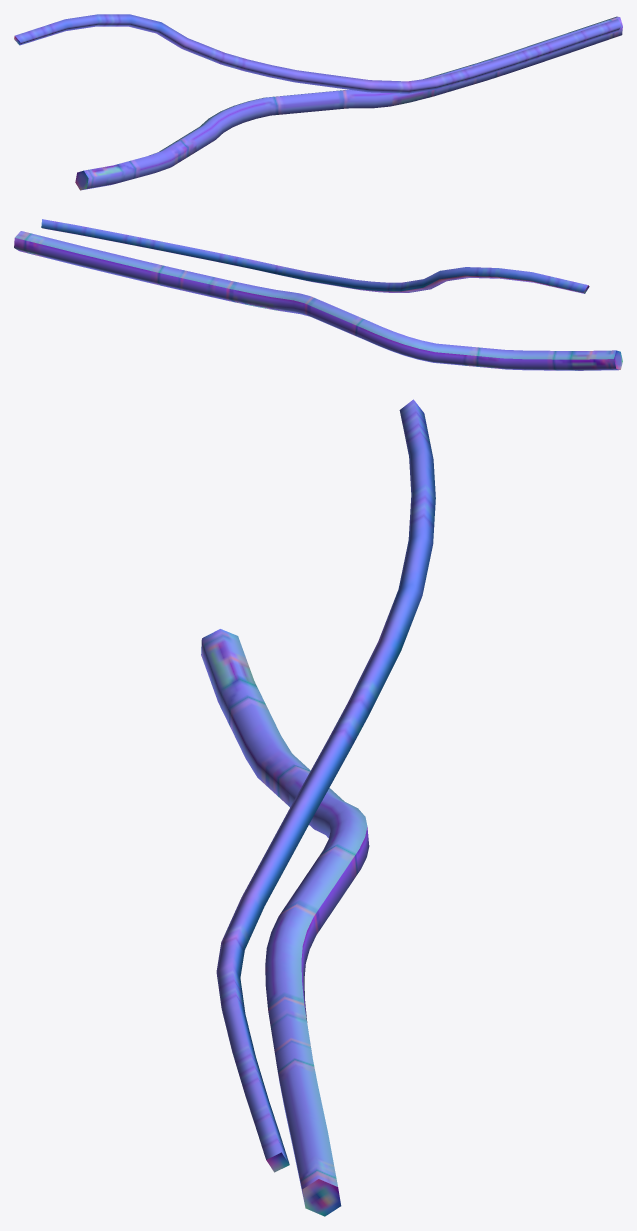
The model's file is debris_cables_02.glb.
3 renders of one model, top to bottom at view 1: azimuth 30°, elevation 25°; view 2: azimuth 150°, elevation 25°; view 3: azimuth 270°, elevation 25°, orthographic. The views are drawn at different scales.
Visible parts, largest first — view 1: ship_debris_05_part_26, ship_debris_05_part_27; view 2: ship_debris_05_part_26, ship_debris_05_part_27; view 3: ship_debris_05_part_26, ship_debris_05_part_27.
Part boxes in pixels (bbox=[...]): ship_debris_05_part_26: bbox=[75, 16, 622, 190]; ship_debris_05_part_27: bbox=[14, 14, 621, 93]; ship_debris_05_part_26: bbox=[14, 231, 622, 370]; ship_debris_05_part_27: bbox=[41, 219, 589, 293]; ship_debris_05_part_26: bbox=[201, 629, 369, 1216]; ship_debris_05_part_27: bbox=[216, 399, 435, 1172].
Size of the model in its own units: 5.61 by 1.27 by 0.9783.
1 material, 1 textured.
